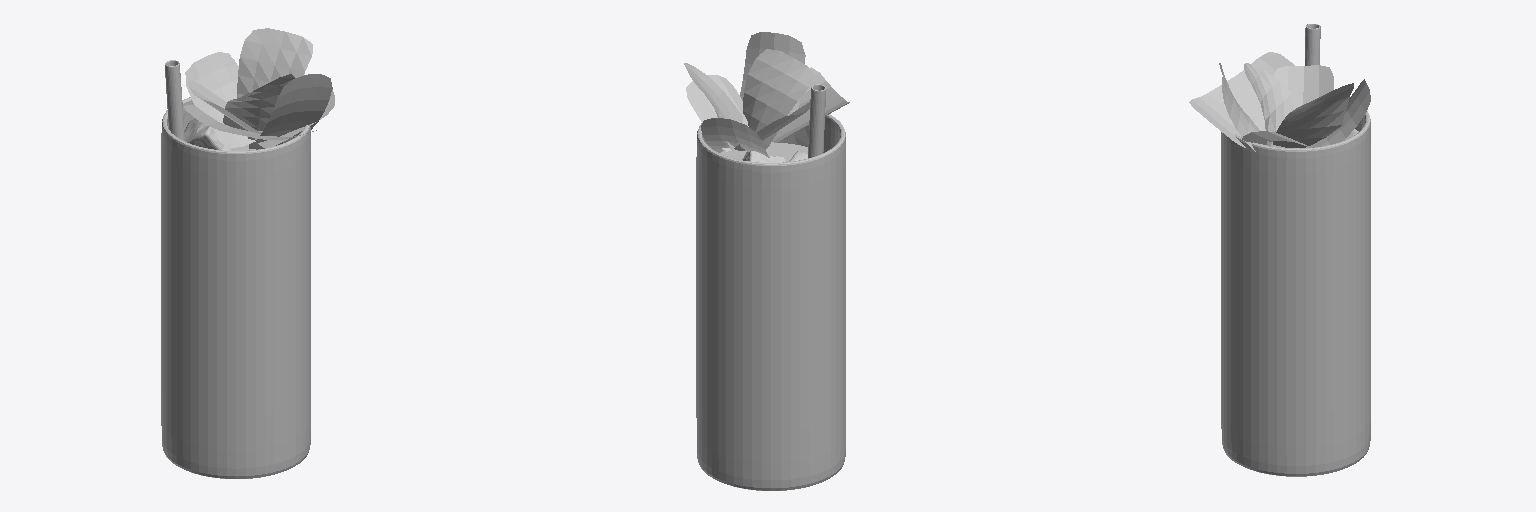
File: Mojito_High_Poly.obj
The picture shows the model from 3 angles: view 1: azimuth 30°, elevation 25°; view 2: azimuth 150°, elevation 25°; view 3: azimuth 270°, elevation 25°; orthographic projection.
Visible parts, largest first — view 1: Collins_Glass_Cylinder.002, Mint_Leaf_013_Plane.024, Mint_Leaf_015_Plane.015, Mint_Leaf_001_Plane.006, Mint_Leaf_012_Plane.007, Metal_Straw_Cylinder, Ice_Cube_020_Cube.031, Mint_Leaf_027_Plane.012, Mint_Leaf_016_Plane.017; view 2: Collins_Glass_Cylinder.002, Mint_Leaf_012_Plane.007, Mint_Leaf_001_Plane.006, Mint_Leaf_015_Plane.015, Mint_Leaf_013_Plane.024, Mint_Leaf_027_Plane.012, Mint_Leaf_005_Plane.008, Metal_Straw_Cylinder, Mint_Leaf_016_Plane.017, Mojito_Liquid_Cylinder.003; view 3: Collins_Glass_Cylinder.002, Mint_Leaf_027_Plane.012, Mint_Leaf_013_Plane.024, Mint_Leaf_012_Plane.007, Mint_Leaf_016_Plane.017, Mint_Leaf_001_Plane.006, Mint_Leaf_015_Plane.015, Metal_Straw_Cylinder.
Boxes of the visible parts, x1,y1,x2,y2 form: Collins_Glass_Cylinder.002: [161, 97, 310, 478]; Mint_Leaf_013_Plane.024: [237, 28, 312, 97]; Mint_Leaf_015_Plane.015: [255, 74, 332, 143]; Mint_Leaf_001_Plane.006: [185, 52, 255, 147]; Mint_Leaf_012_Plane.007: [223, 74, 294, 145]; Metal_Straw_Cylinder: [165, 60, 184, 140]; Ice_Cube_020_Cube.031: [184, 116, 233, 150]; Mint_Leaf_027_Plane.012: [184, 105, 316, 149]; Mint_Leaf_016_Plane.017: [189, 80, 260, 133]; Collins_Glass_Cylinder.002: [696, 114, 845, 490]; Mint_Leaf_012_Plane.007: [743, 49, 813, 153]; Mint_Leaf_001_Plane.006: [701, 118, 769, 157]; Mint_Leaf_015_Plane.015: [740, 32, 805, 115]; Mint_Leaf_013_Plane.024: [684, 63, 746, 158]; Mint_Leaf_027_Plane.012: [742, 67, 849, 159]; Mint_Leaf_005_Plane.008: [686, 75, 748, 151]; Metal_Straw_Cylinder: [808, 84, 825, 157]; Mint_Leaf_016_Plane.017: [734, 102, 809, 150]; Mojito_Liquid_Cylinder.003: [720, 142, 807, 161]; Collins_Glass_Cylinder.002: [1221, 111, 1370, 476]; Mint_Leaf_027_Plane.012: [1189, 52, 1294, 147]; Mint_Leaf_013_Plane.024: [1273, 83, 1353, 147]; Mint_Leaf_012_Plane.007: [1244, 63, 1300, 148]; Mint_Leaf_016_Plane.017: [1273, 65, 1333, 147]; Mint_Leaf_001_Plane.006: [1307, 79, 1370, 147]; Mint_Leaf_015_Plane.015: [1219, 63, 1266, 151]; Metal_Straw_Cylinder: [1305, 24, 1320, 65].
Bounding box in the file's own units: 0.073 × 0.1802 × 0.0755.